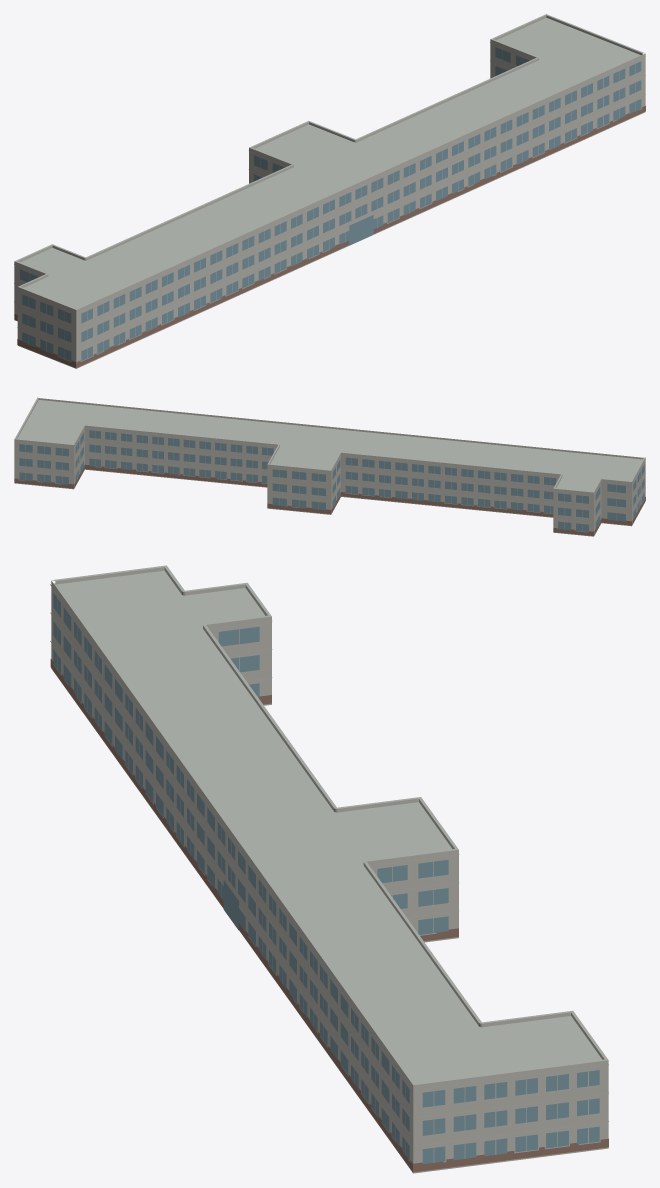
File: public-8d7e19b6-dc4c-4868-80aa-8f585ad10189.glb
3 views of the same model, one above another, from view 1: azimuth 30°, elevation 25°; view 2: azimuth 150°, elevation 25°; view 3: azimuth 270°, elevation 25° (orthographic). The views are drawn at different scales.
Visible parts, largest first — view 1: public-8d7e19b6-dc4c-4868-80aa-8f585ad10189; view 2: public-8d7e19b6-dc4c-4868-80aa-8f585ad10189; view 3: public-8d7e19b6-dc4c-4868-80aa-8f585ad10189.
Part boxes in pixels (bbox=[...]): public-8d7e19b6-dc4c-4868-80aa-8f585ad10189: bbox=[14, 14, 645, 368]; public-8d7e19b6-dc4c-4868-80aa-8f585ad10189: bbox=[14, 397, 645, 536]; public-8d7e19b6-dc4c-4868-80aa-8f585ad10189: bbox=[50, 565, 608, 1173].
Size of the model in its own units: 116 by 9.14 by 52.47.
